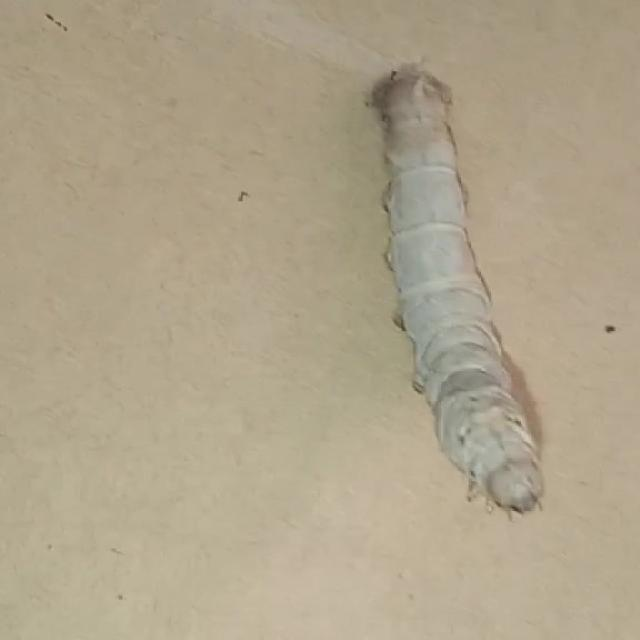Grasserie: (324, 29, 607, 534)
